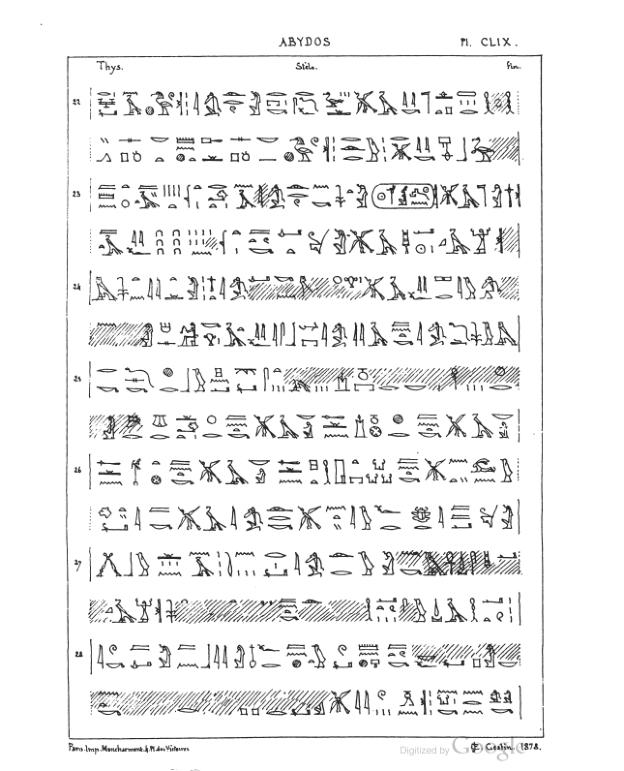circle: (370, 179, 440, 215)
